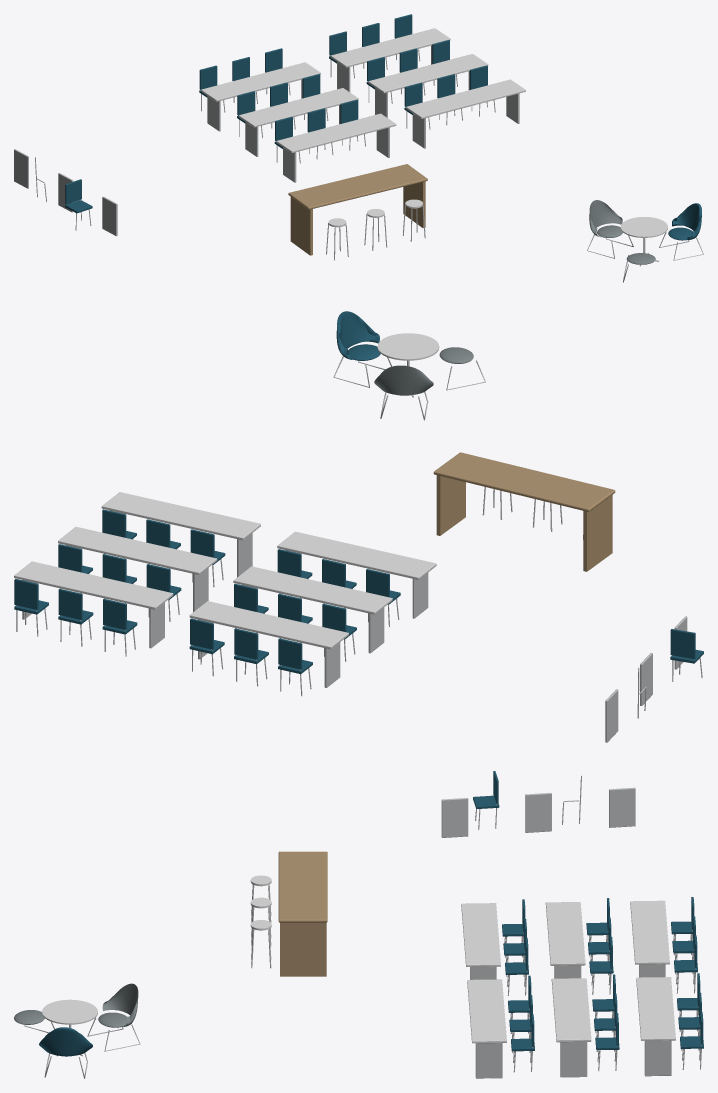
Rendered from SM_L1_Furniture_Solid_2c483db502_0.fbx.
The picture shows the model from 3 angles, top to bottom: view 1: azimuth 30°, elevation 25°; view 2: azimuth 150°, elevation 25°; view 3: azimuth 270°, elevation 25°; orthographic projection. The views are drawn at different scales.
Parts seen in each view (by area): view 1: SM_L1_Furniture_Solid_2c483db502_0; view 2: SM_L1_Furniture_Solid_2c483db502_0; view 3: SM_L1_Furniture_Solid_2c483db502_0.
Part boxes in pixels (box(x1,y1,x2,y2)): SM_L1_Furniture_Solid_2c483db502_0: box(14, 14, 703, 282); SM_L1_Furniture_Solid_2c483db502_0: box(14, 311, 703, 742); SM_L1_Furniture_Solid_2c483db502_0: box(14, 771, 703, 1078).
Size of the model in its own units: 10.61 by 11.83 by 1.09.
